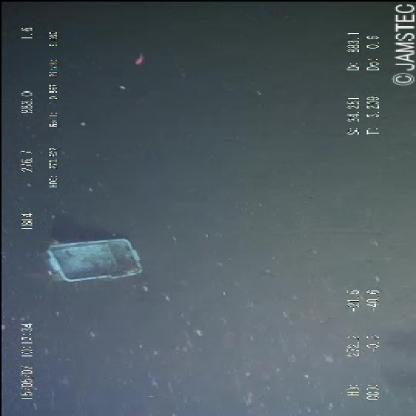Rác: (30, 238, 150, 288)
